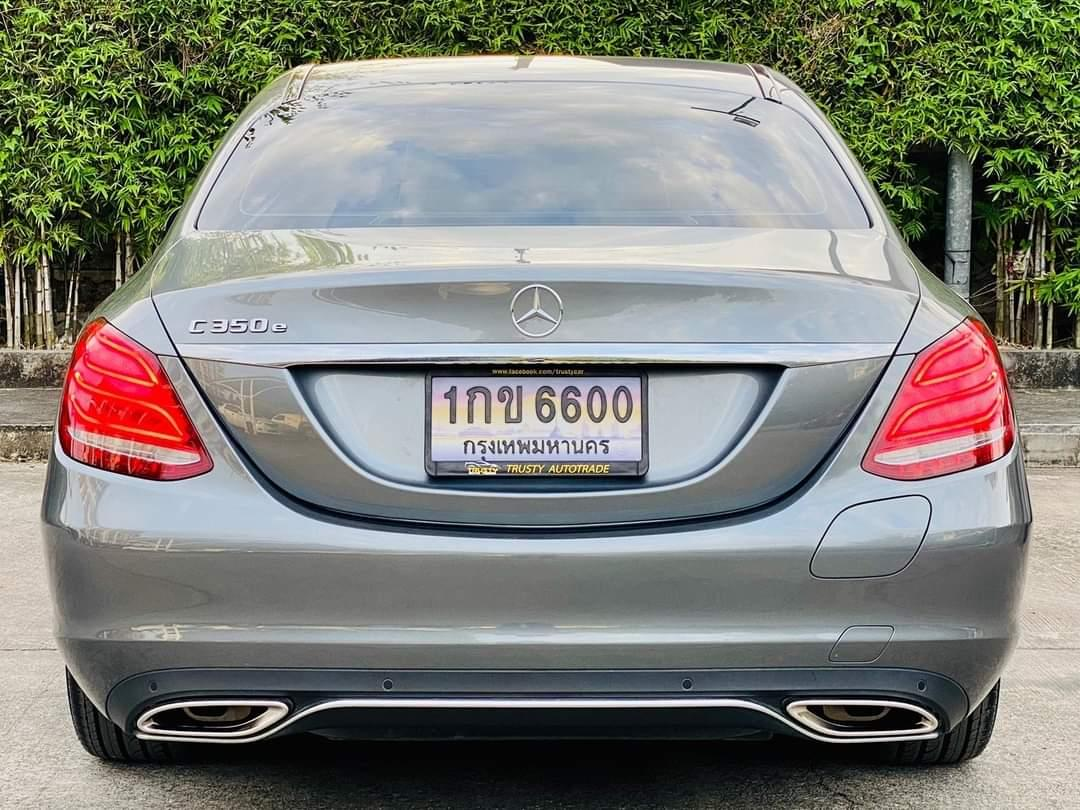license-plate: (422, 362, 650, 484)
